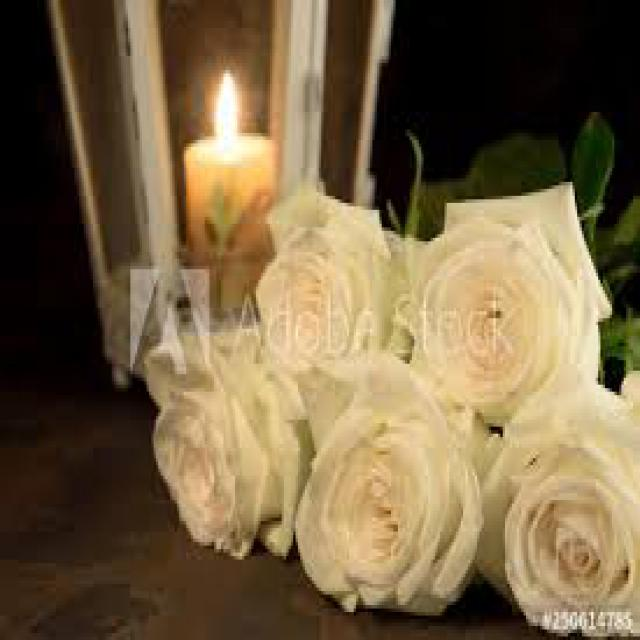fire: (213, 71, 243, 148)
